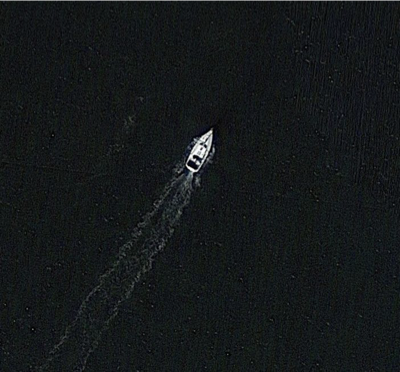boat: (184, 128, 217, 174)
